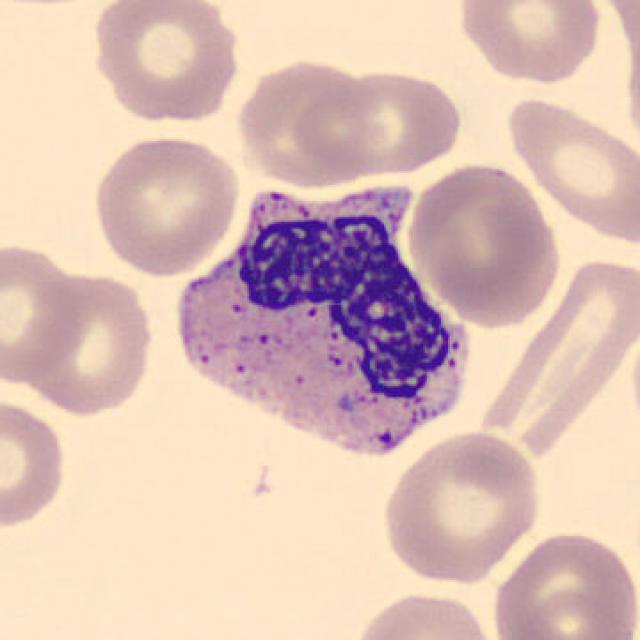Neutrophil: (160, 166, 485, 480)
RBC: (377, 427, 546, 587), (404, 157, 560, 324), (87, 130, 244, 277), (9, 268, 160, 418), (502, 92, 638, 248), (292, 64, 464, 182), (233, 53, 380, 190), (87, 0, 244, 125), (489, 527, 638, 640), (0, 237, 92, 384), (453, 0, 606, 86), (0, 393, 71, 531), (348, 587, 502, 640), (620, 5, 640, 162)
